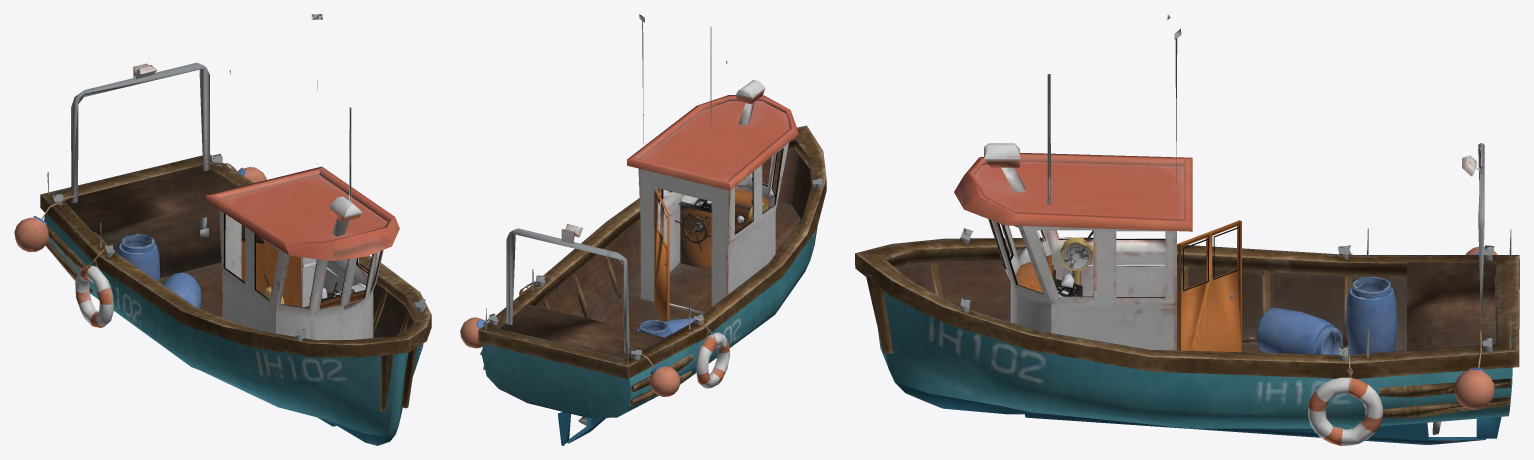
File: fishing-ship.lod0.glb
3 views of the same model, side by side, from view 1: azimuth 30°, elevation 25°; view 2: azimuth 150°, elevation 25°; view 3: azimuth 270°, elevation 25° (orthographic). The views are drawn at different scales.
Visible parts, largest first — view 1: Sketchfab_Fishing_Ship_0, Sketchfab_Boat_Interior_0; view 2: Sketchfab_Fishing_Ship_0, Sketchfab_Boat_Interior_0; view 3: Sketchfab_Fishing_Ship_0, Sketchfab_Boat_Interior_0.
Boxes of the visible parts, <box> form: Sketchfab_Fishing_Ship_0: <box>40,14,431,445</box>; Sketchfab_Boat_Interior_0: <box>14,162,365,327</box>; Sketchfab_Fishing_Ship_0: <box>478,14,826,445</box>; Sketchfab_Boat_Interior_0: <box>460,188,771,396</box>; Sketchfab_Fishing_Ship_0: <box>855,14,1519,444</box>; Sketchfab_Boat_Interior_0: <box>1015,230,1497,445</box>.
Size of the model in its own units: 14.93 by 21.86 by 29.98.
3 materials, 2 textured.
